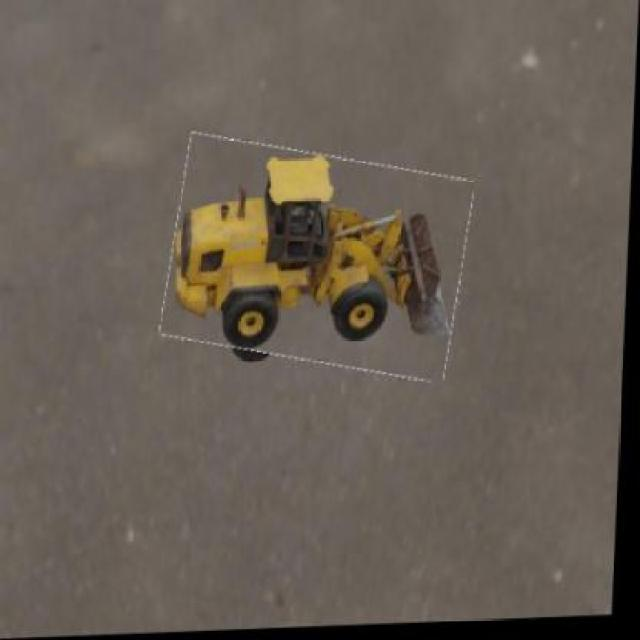buldozerpayloadergrader: (169, 152, 454, 365)
